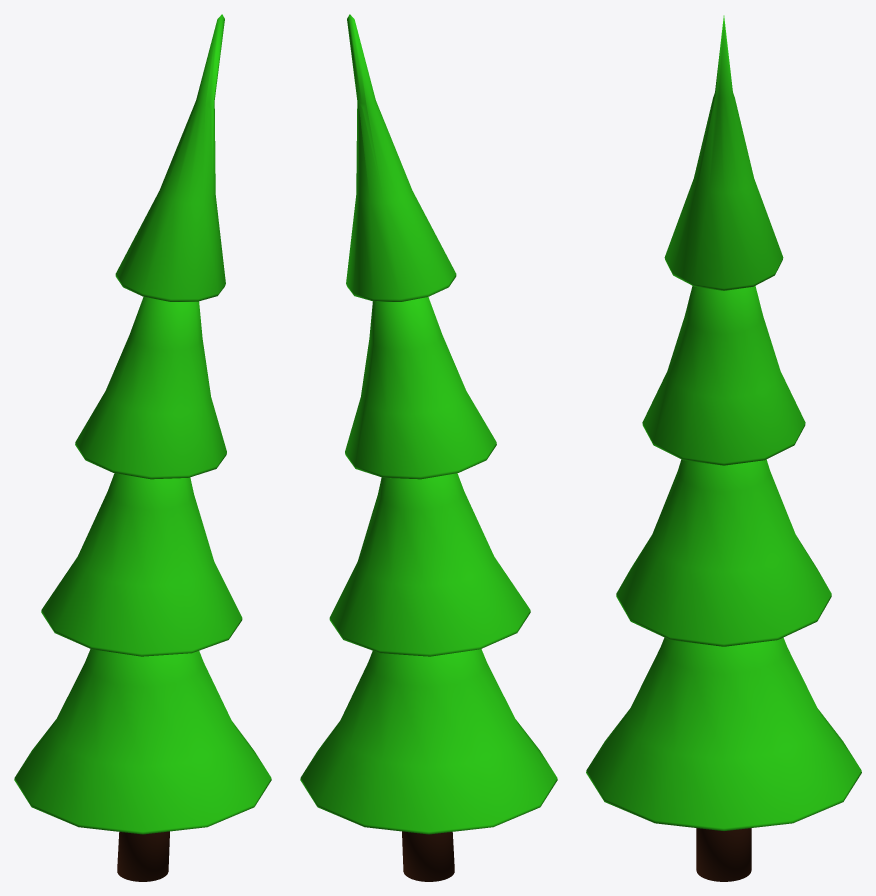
Rendered from tree7.obj.
The picture shows the model from 3 angles, left to right: view 1: azimuth 30°, elevation 25°; view 2: azimuth 150°, elevation 25°; view 3: azimuth 270°, elevation 25°; orthographic projection. The views are drawn at different scales.
Visible parts, largest first — view 1: tree7; view 2: tree7; view 3: tree7.
Boxes of the visible parts, bbox=[...] form: tree7: bbox=[14, 14, 271, 881]; tree7: bbox=[300, 14, 557, 881]; tree7: bbox=[586, 15, 861, 881].
Size of the model in its own units: 2.99 by 10.73 by 2.99.
